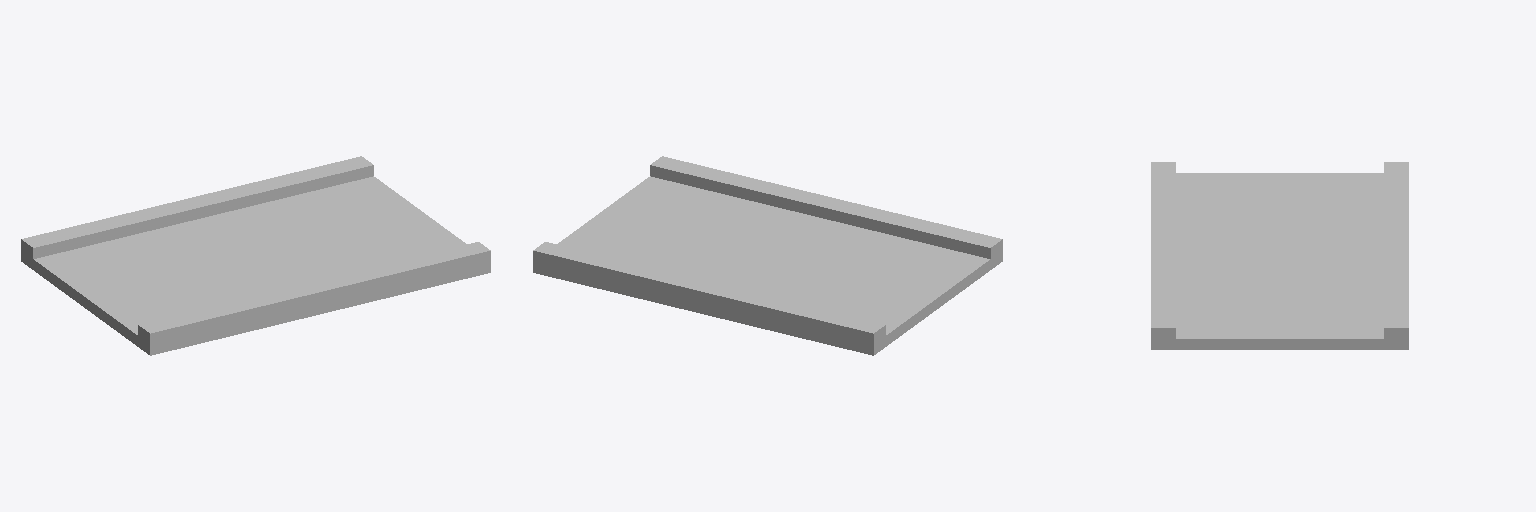
Rendered from Road1.obj.
3 renders of one model, left to right at view 1: azimuth 30°, elevation 25°; view 2: azimuth 150°, elevation 25°; view 3: azimuth 270°, elevation 25°, orthographic.
Bounding box in the file's own units: 32 × 2 × 21.